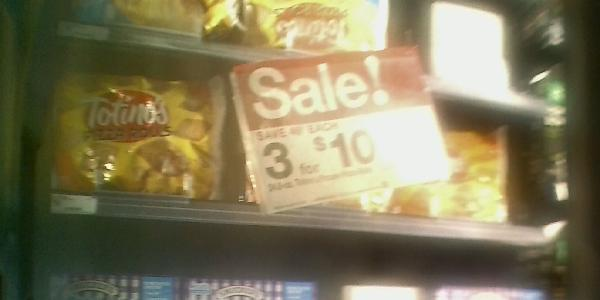icecream: (53, 70, 222, 201), (386, 119, 509, 223)
